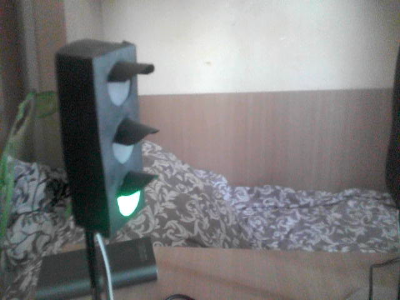trafficlight_green: (91, 44, 153, 218)
